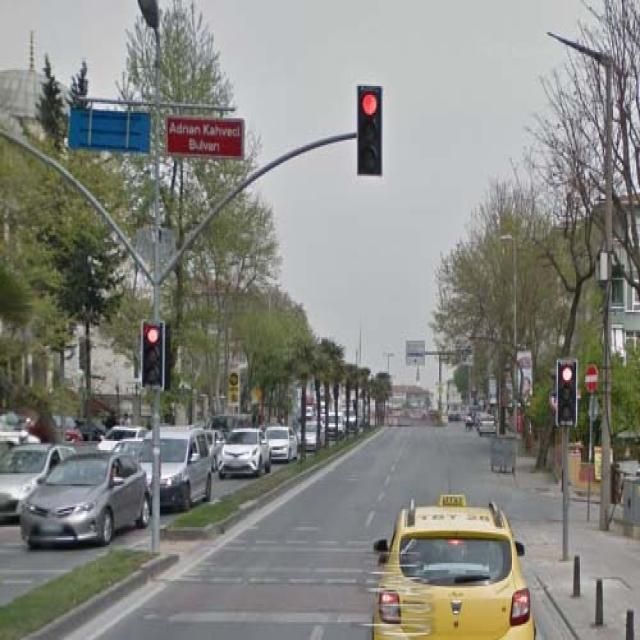girisyok: (585, 364, 598, 393)
kirmizi: (357, 86, 384, 174), (141, 321, 166, 389), (557, 360, 577, 425)
